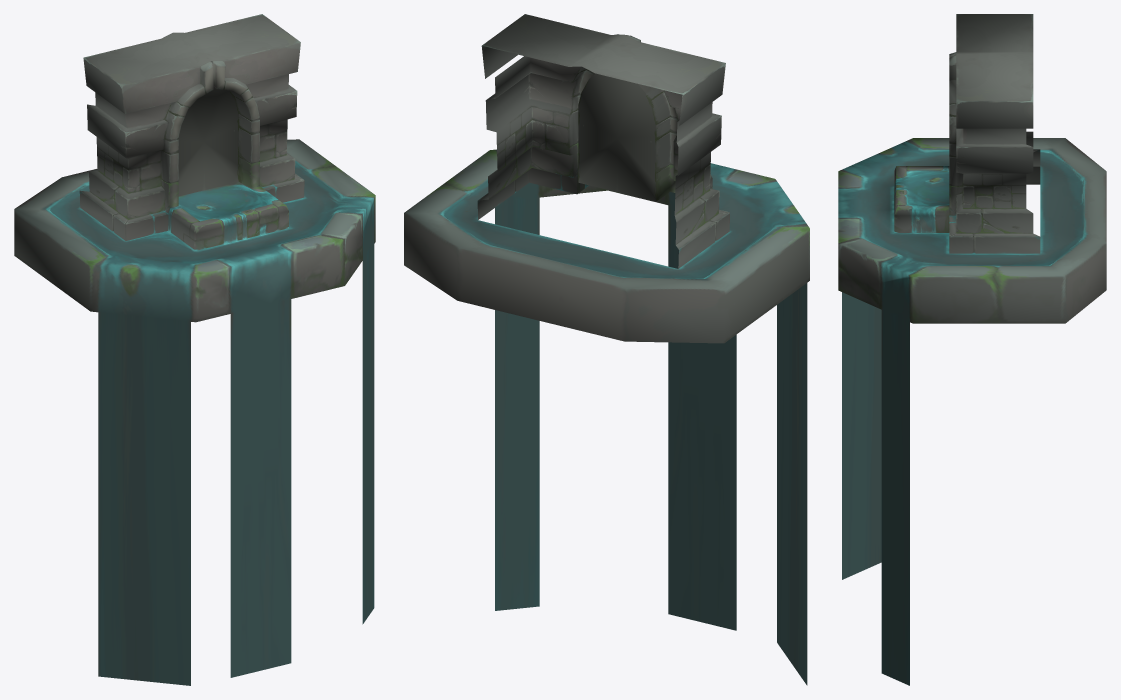
Rendered from yw_shanlin_fountainbase_001.FBX.
3 renders of one model, left to right at view 1: azimuth 30°, elevation 25°; view 2: azimuth 150°, elevation 25°; view 3: azimuth 270°, elevation 25°, orthographic. The views are drawn at different scales.
Parts seen in each view (by area): view 1: yw_shanlin_fountainbase_01; view 2: yw_shanlin_fountainbase_01; view 3: yw_shanlin_fountainbase_01.
Part boxes in pixels (x1,y1,x2,y2): yw_shanlin_fountainbase_01: [14, 14, 375, 685]; yw_shanlin_fountainbase_01: [404, 14, 809, 685]; yw_shanlin_fountainbase_01: [838, 14, 1106, 685].
Bounding box in the file's own units: 962 × 785 × 1819.
